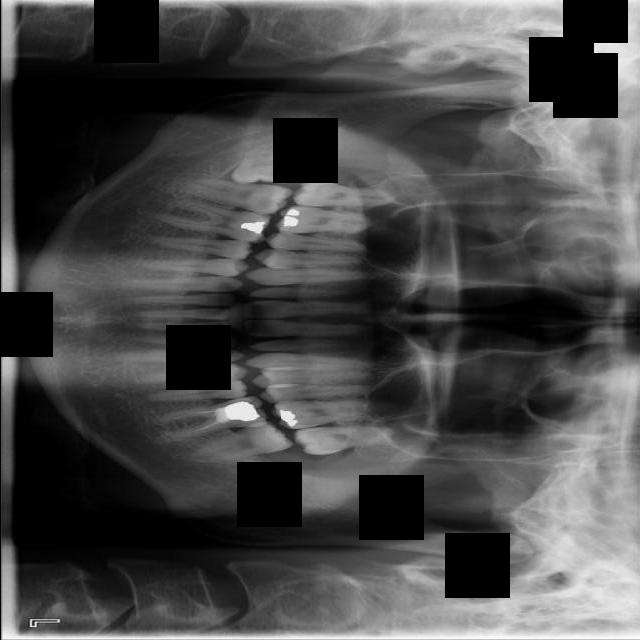52: (222, 399, 259, 423), (275, 406, 299, 428), (230, 180, 263, 191), (239, 222, 265, 235), (282, 216, 297, 227), (284, 209, 298, 216)
73: (156, 400, 236, 442), (76, 572, 78, 592)
BioHorizons Implant: (292, 425, 394, 456)
Blue Sky Bio Implant: (184, 416, 293, 469)
Caries: (291, 180, 390, 208)
Implant: (181, 175, 292, 218)
Keystone Dental Implant: (230, 145, 290, 185)
